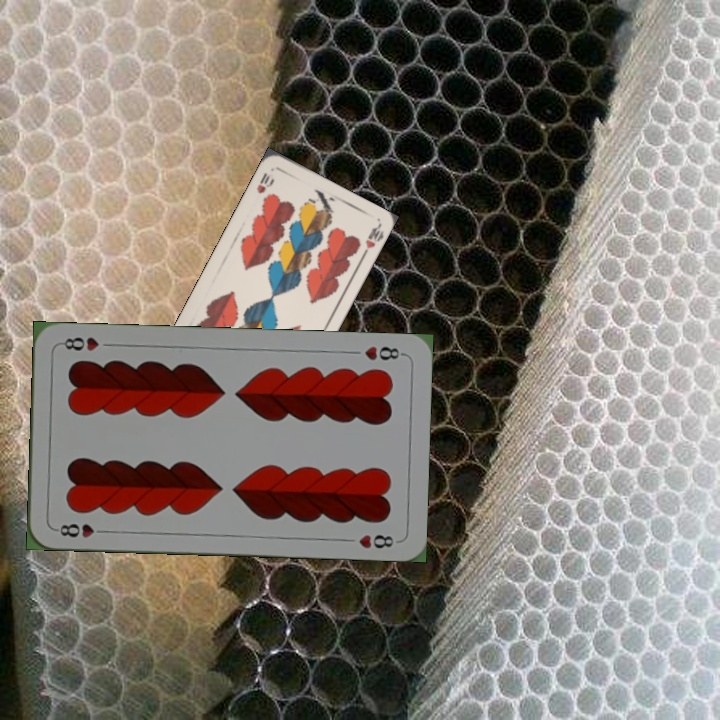H10: (252, 169, 276, 197)
H8: (51, 519, 111, 541), (360, 342, 407, 363)
